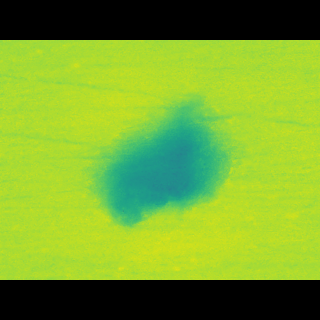Loch: (88, 114, 235, 215)
